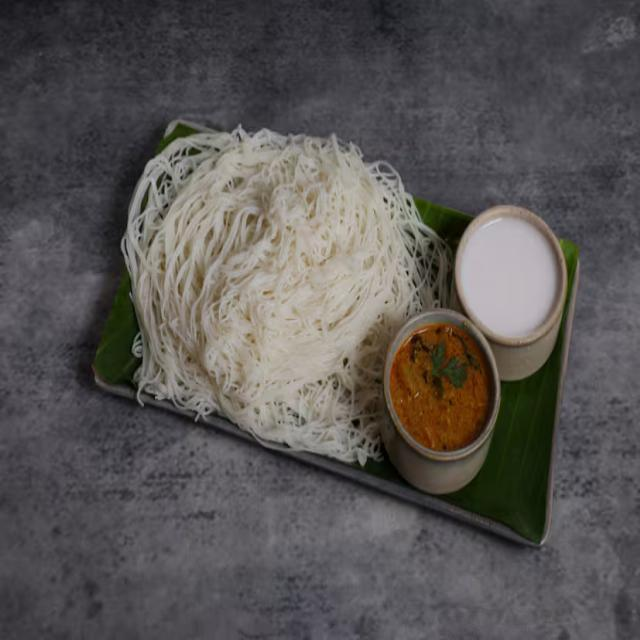IDIYAPPAM: (133, 128, 451, 453)
KURMA: (399, 328, 492, 443)
SWEET: (458, 216, 561, 340)
